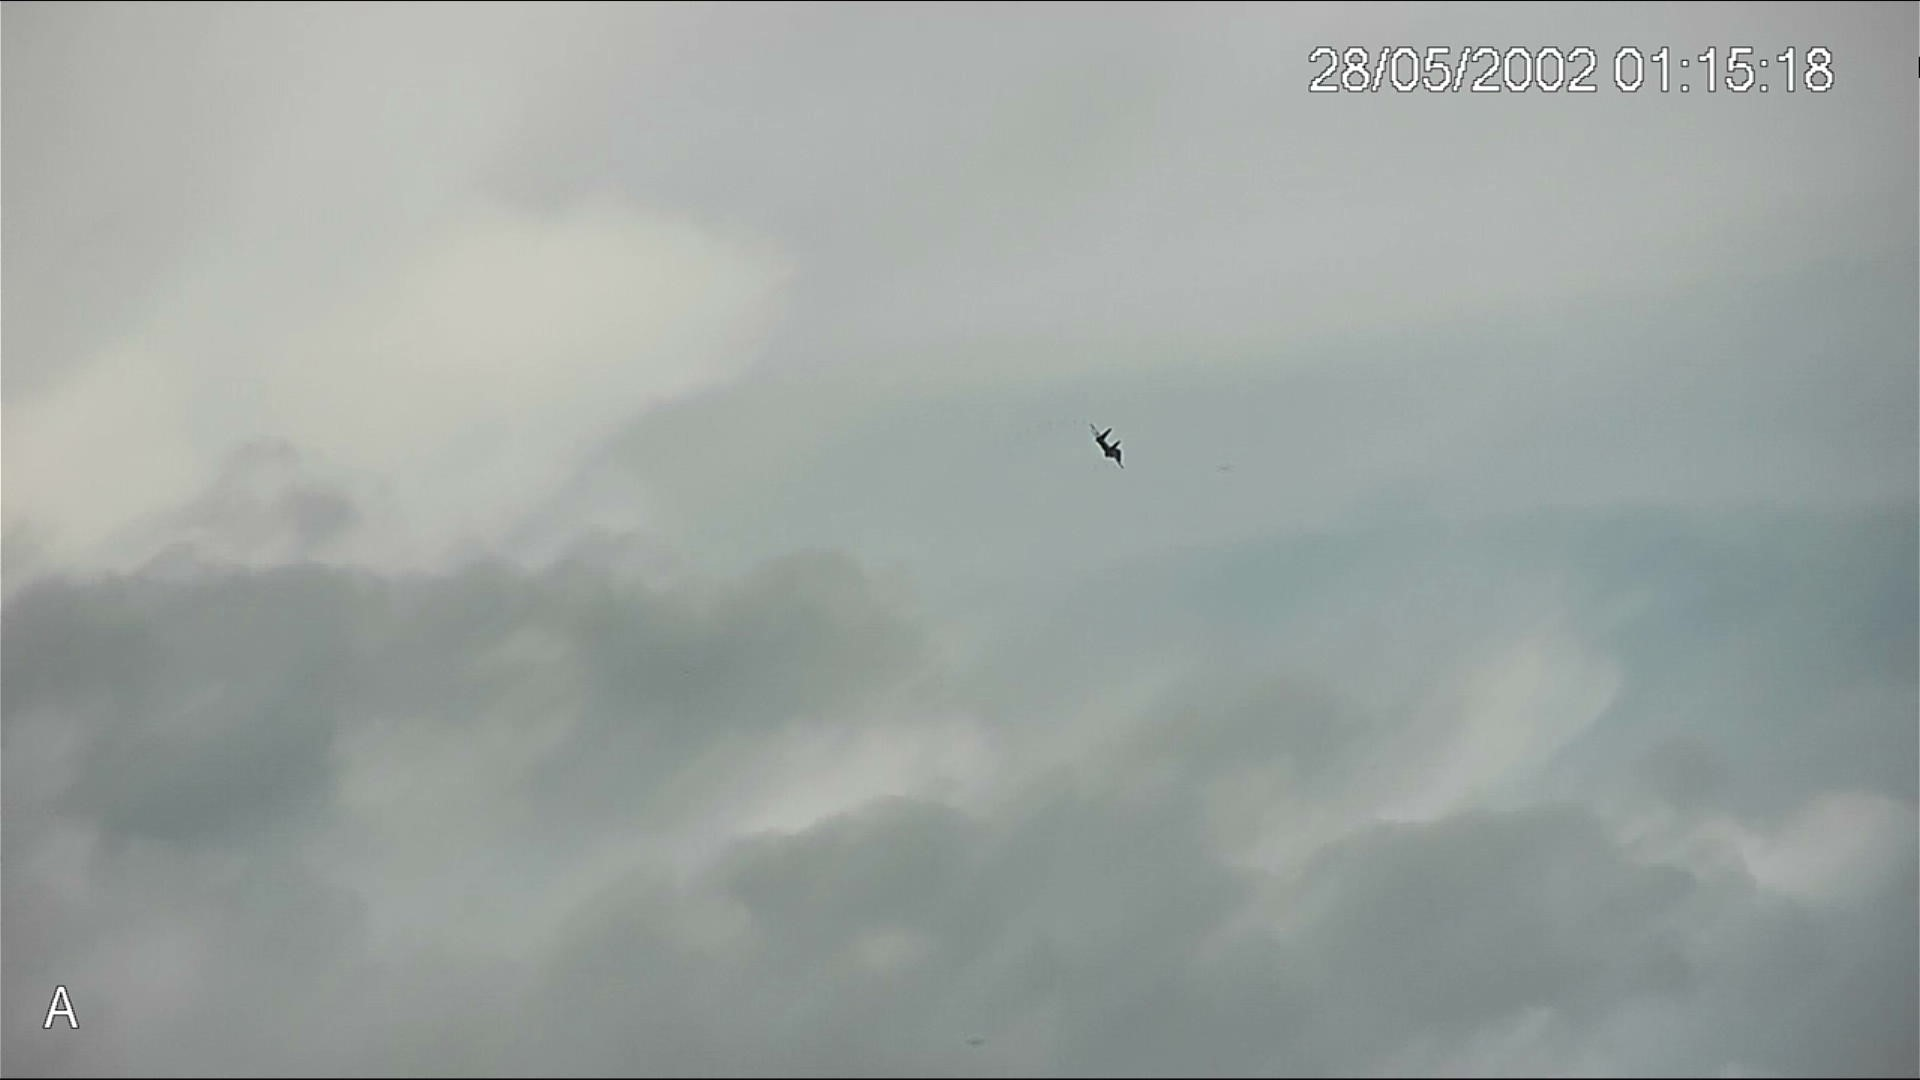SU_30: (1087, 421, 1124, 469)
